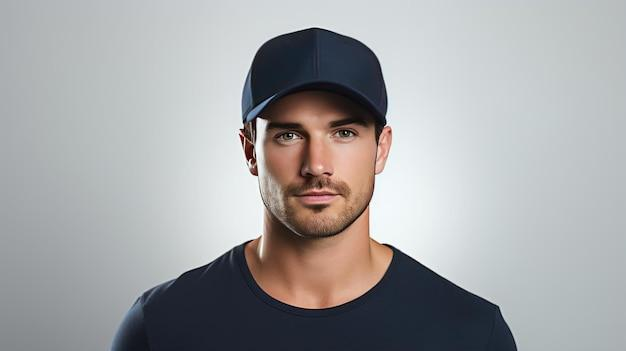cap: (237, 25, 394, 130)
